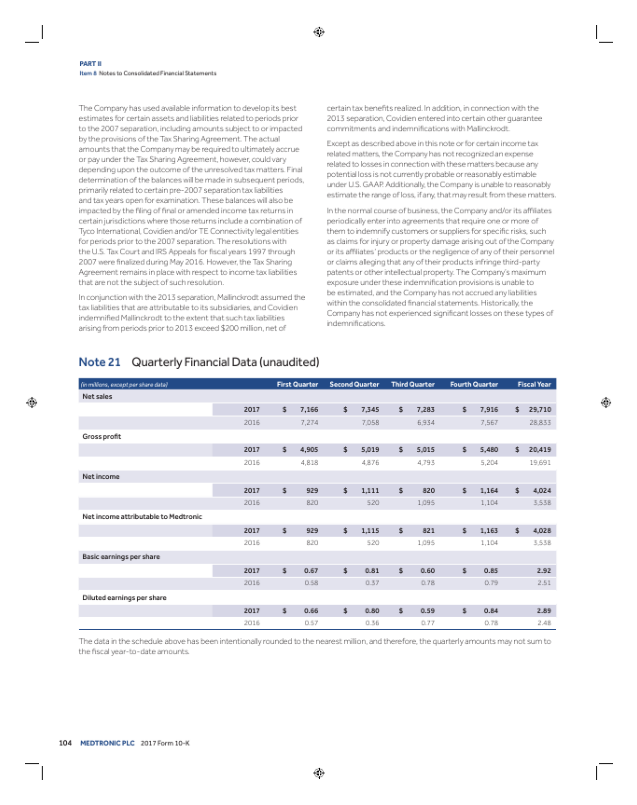table: (74, 376, 558, 627)
